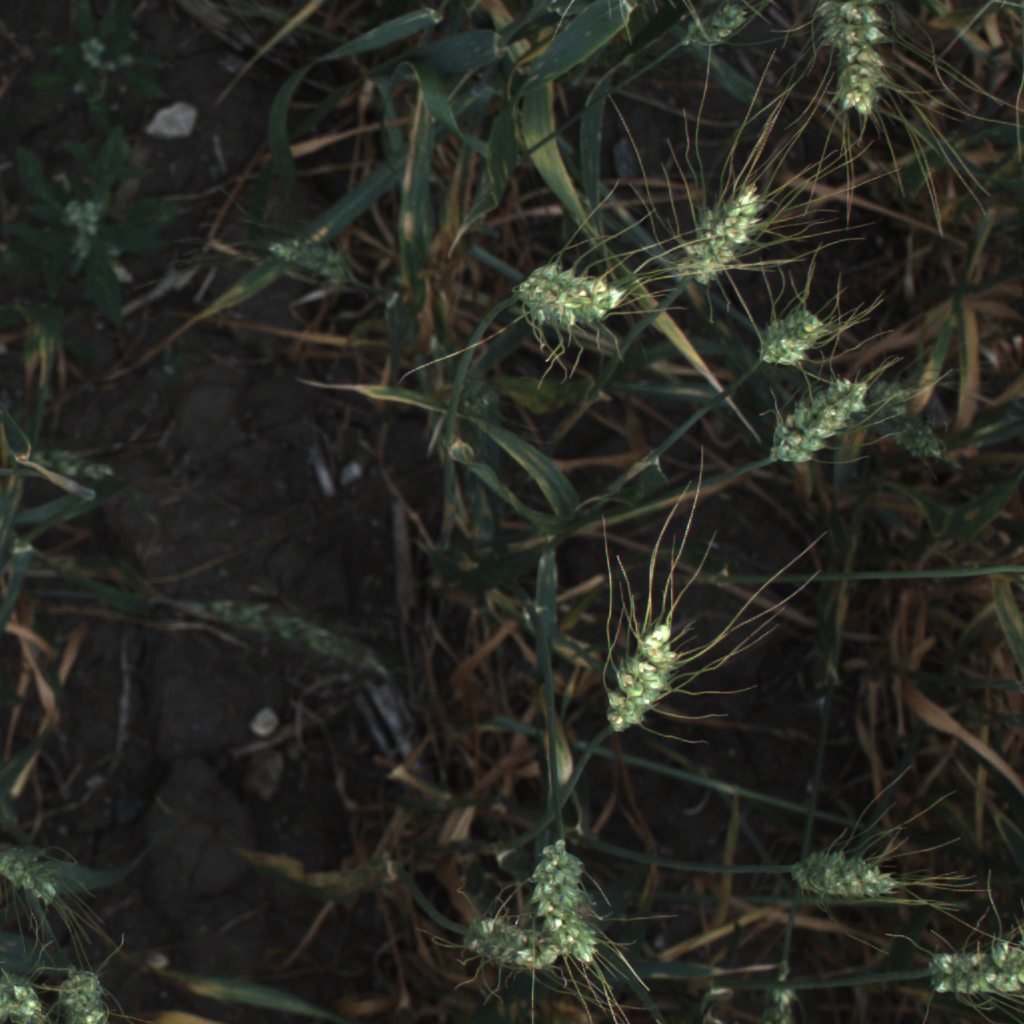wheat_head: (520, 808, 609, 988), (196, 596, 383, 681), (497, 239, 627, 359), (791, 0, 908, 130), (670, 167, 780, 305), (597, 609, 687, 737), (769, 370, 876, 464), (782, 833, 904, 907), (922, 929, 1024, 1012), (461, 908, 565, 982), (757, 289, 837, 374), (673, 0, 764, 57), (0, 835, 67, 909), (265, 235, 358, 288), (52, 956, 119, 1024), (2, 967, 61, 1024), (890, 417, 947, 468), (761, 960, 799, 1024), (868, 378, 915, 417)
